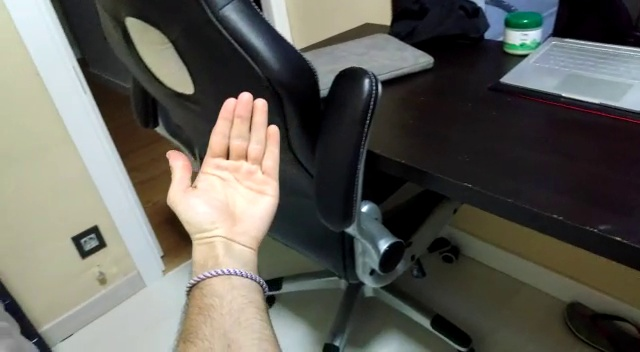Palm: (163, 89, 289, 257)
